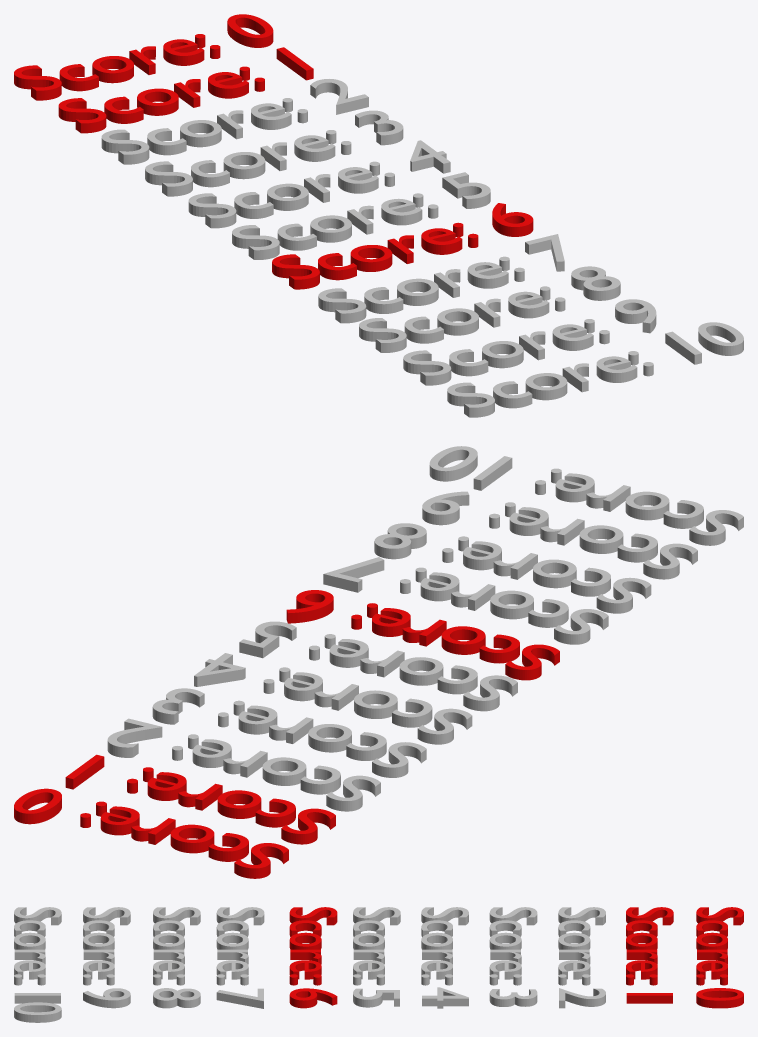
File: ScoreCounter-0-FIXED.obj
3 renders of one model, top to bottom at view 1: azimuth 30°, elevation 25°; view 2: azimuth 150°, elevation 25°; view 3: azimuth 270°, elevation 25°, orthographic. The views are drawn at different scales.
Visible parts, largest first — view 1: Text.010_Text.013, Text.008_Text.011, Text.005_Text.008, Text.004_Text.007, Text.002_Text.005, Text.009_Text.012, Text.001_Text.004, Text.006_Text.009, Text.003_Text.006, Text.007_Text.010, Text_Text.003; view 2: Text.010_Text.013, Text.008_Text.011, Text.005_Text.008, Text.001_Text.004, Text.004_Text.007, Text.009_Text.012, Text.007_Text.010, Text.006_Text.009, Text.002_Text.005, Text.003_Text.006, Text_Text.003; view 3: Text.010_Text.013, Text.008_Text.011, Text.005_Text.008, Text.006_Text.009, Text.009_Text.012, Text.002_Text.005, Text.001_Text.004, Text.003_Text.006, Text.004_Text.007, Text.007_Text.010, Text_Text.003.
Boxes of the visible parts, box(x1,y1,x2,y2) form: Text.010_Text.013: box(447, 322, 743, 417); Text.008_Text.011: box(359, 266, 620, 352); Text.005_Text.008: box(14, 14, 273, 100); Text.004_Text.007: box(232, 172, 490, 259); Text.002_Text.005: box(145, 110, 403, 196); Text.009_Text.012: box(403, 299, 656, 385); Text.001_Text.004: box(101, 79, 368, 164); Text.006_Text.009: box(272, 203, 533, 289); Text.003_Text.006: box(188, 140, 450, 228); Text.007_Text.010: box(318, 234, 564, 323); Text_Text.003: box(58, 47, 313, 133); Text.010_Text.013: box(429, 446, 743, 545); Text.008_Text.011: box(374, 523, 651, 613); Text.005_Text.008: box(14, 788, 288, 878); Text.001_Text.004: box(107, 718, 380, 811); Text.004_Text.007: box(239, 621, 517, 711); Text.009_Text.012: box(422, 491, 697, 579); Text.007_Text.010: box(323, 557, 608, 644); Text.006_Text.009: box(286, 590, 559, 680); Text.002_Text.005: box(152, 688, 426, 777); Text.003_Text.006: box(194, 653, 472, 744); Text_Text.003: box(65, 754, 335, 844); Text.010_Text.013: box(14, 907, 61, 1022); Text.008_Text.011: box(153, 907, 200, 1008); Text.005_Text.008: box(696, 907, 743, 1008); Text.006_Text.009: box(289, 907, 337, 1008); Text.009_Text.012: box(83, 907, 130, 1008); Text.002_Text.005: box(489, 907, 537, 1006); Text.001_Text.004: box(558, 907, 605, 1008); Text.003_Text.006: box(421, 907, 468, 1008); Text.004_Text.007: box(353, 907, 400, 1007); Text.007_Text.010: box(216, 907, 264, 1008); Text_Text.003: box(626, 907, 673, 1003).
Size of the model in its own units: 3.75 by 0.1266 by 10.72.
